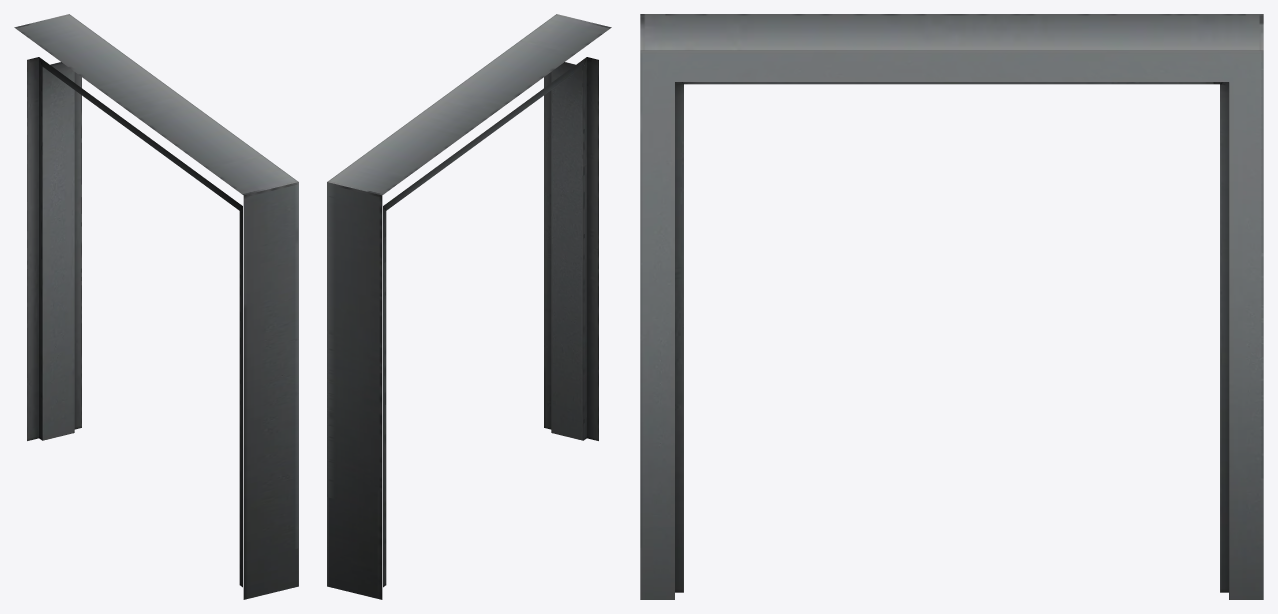
3 views of the same model, side by side, from view 1: azimuth 30°, elevation 25°; view 2: azimuth 150°, elevation 25°; view 3: azimuth 270°, elevation 25° (orthographic). The views are drawn at different scales.
Parts seen in each view (by area): view 1: body0_model0_lod0_mesh0; view 2: body0_model0_lod0_mesh0; view 3: body0_model0_lod0_mesh0.
Boxes of the visible parts, <box> form: body0_model0_lod0_mesh0: <box>14,14,298,599</box>; body0_model0_lod0_mesh0: <box>327,14,611,599</box>; body0_model0_lod0_mesh0: <box>640,14,1263,599</box>.
Bounding box in the file's own units: 20 × 140 × 144.
Materials: 1 (1 with a texture image).
